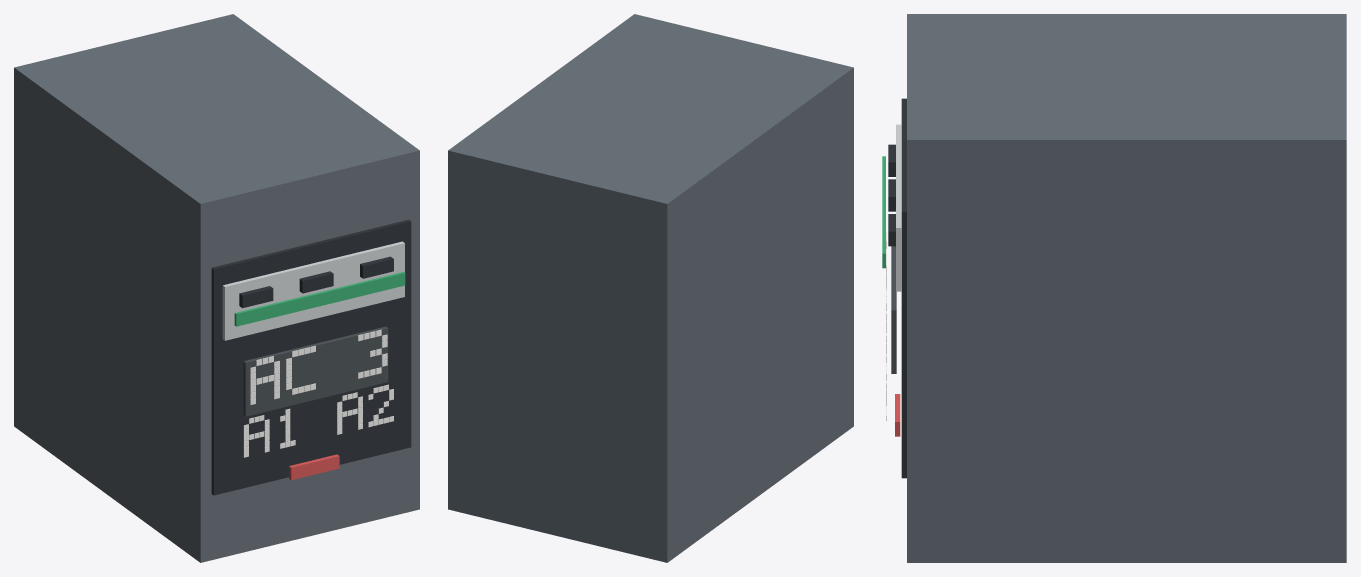
File: stlib-ele-contactor-t1-v1.glb
3 renders of one model, left to right at view 1: azimuth 30°, elevation 25°; view 2: azimuth 150°, elevation 25°; view 3: azimuth 270°, elevation 25°, orthographic. The views are drawn at different scales.
Visible parts, largest first — view 1: STRATUM_contactor_T1_CLASS_REVIEW; view 2: STRATUM_contactor_T1_CLASS_REVIEW; view 3: STRATUM_contactor_T1_CLASS_REVIEW.
Boxes of the visible parts, left/top/right/bottom form: STRATUM_contactor_T1_CLASS_REVIEW: left=14, top=14, right=419, bottom=562; STRATUM_contactor_T1_CLASS_REVIEW: left=448, top=14, right=853, bottom=562; STRATUM_contactor_T1_CLASS_REVIEW: left=882, top=14, right=1346, bottom=562.
Size of the model in its own units: 0.055 by 0.0864 by 0.0856.
